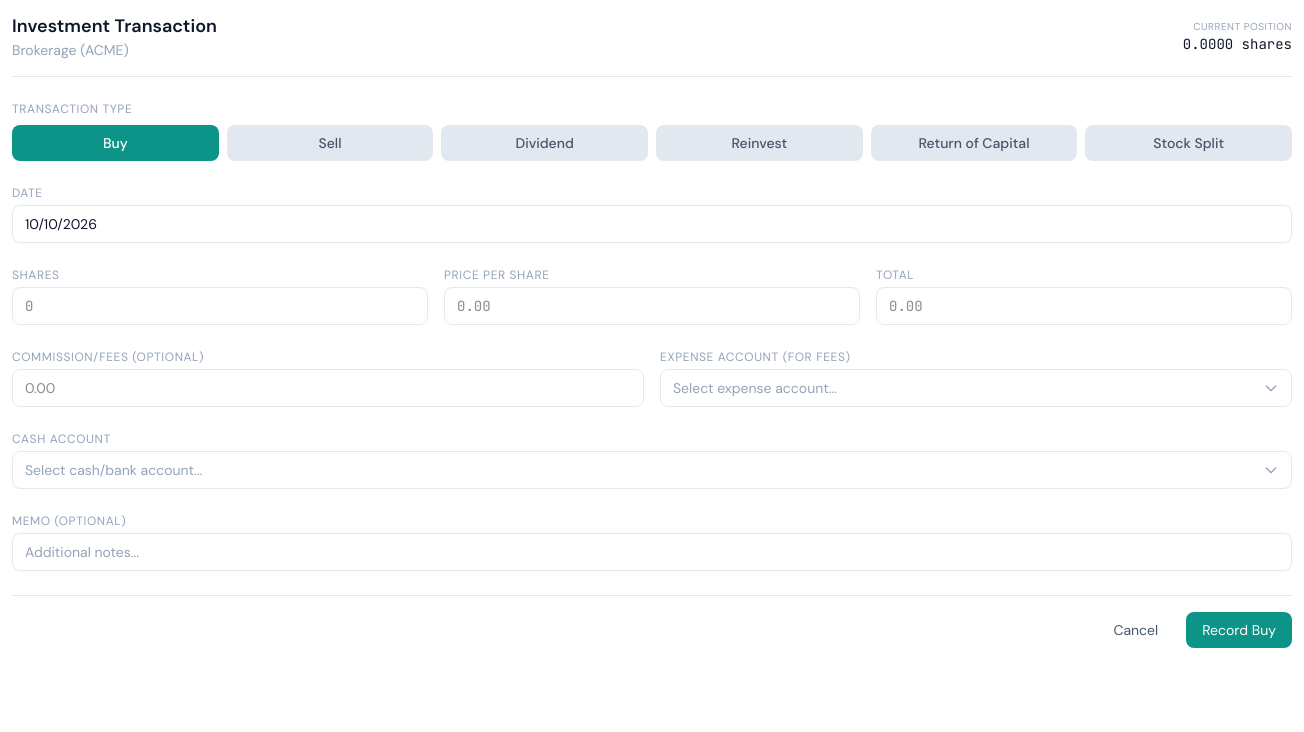
Scenario: InvestmentTransactionForm account pickers › does not render a write-only split-ratio field for a stock split
Click the button "Stock Split": (1189, 143) [1085,125,1292,161]
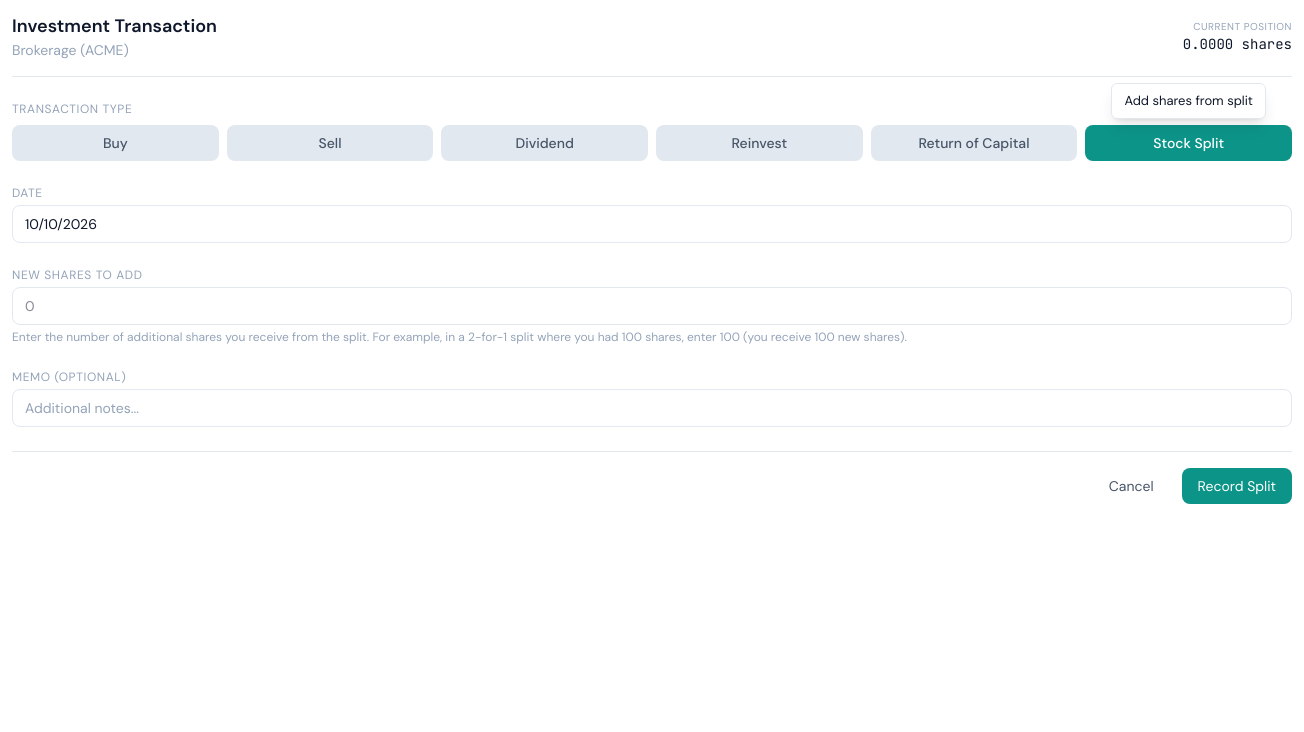
Check: the text "New Shares to Add" is shown, box [12,267,142,283]
